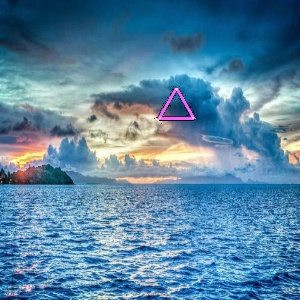triangle: (153, 84, 198, 123)
